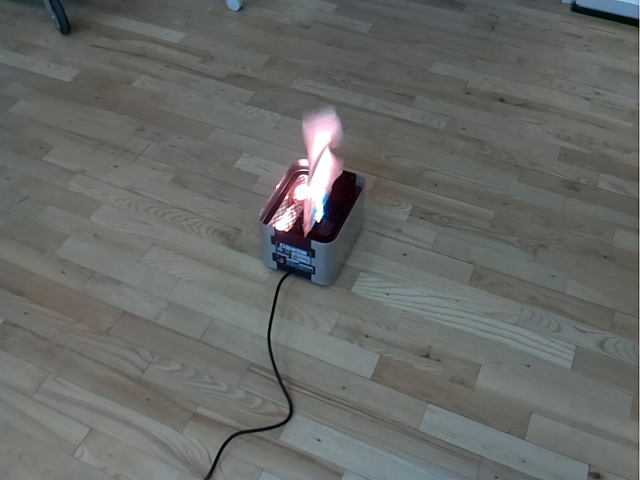fire: (301, 103, 343, 237)
